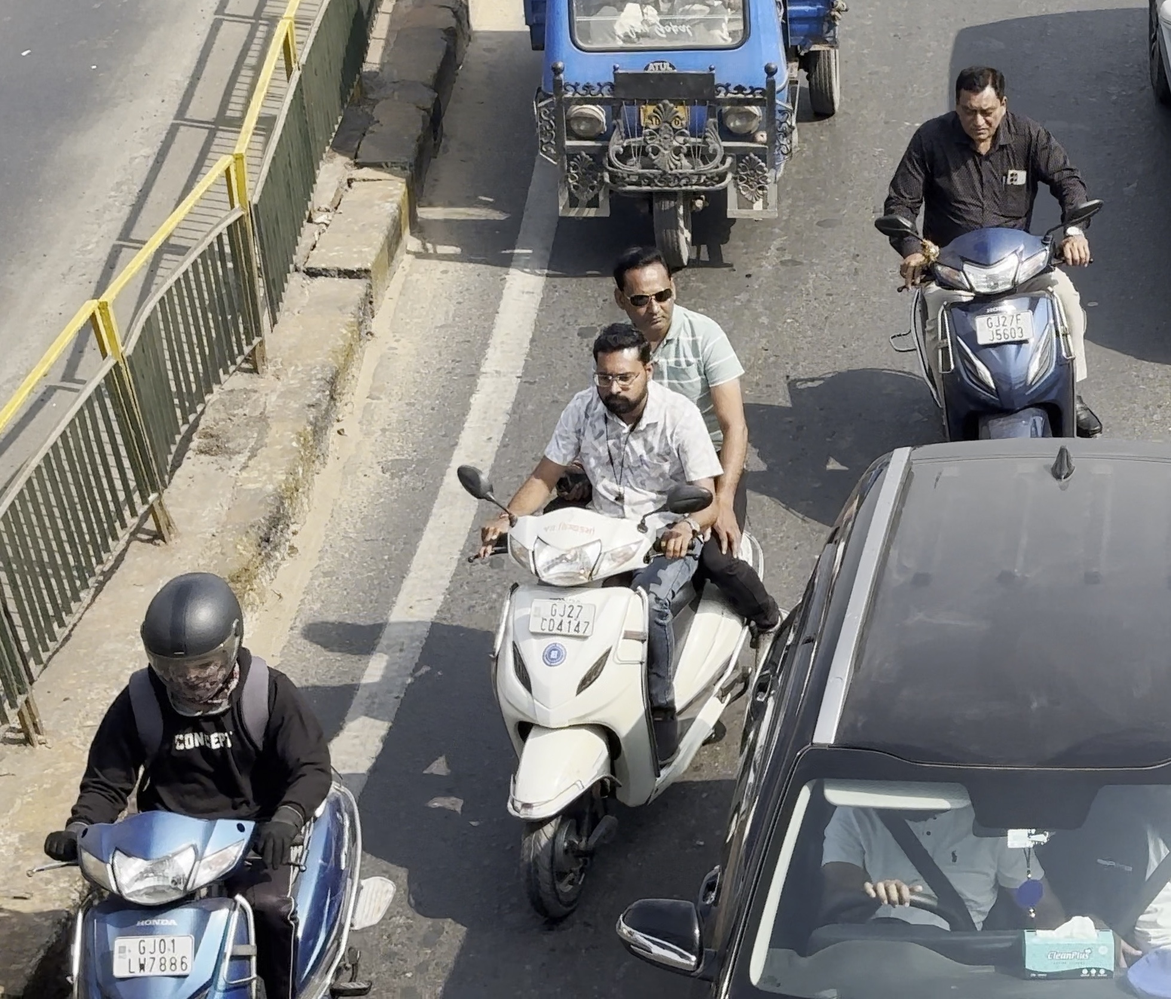BikeWithRider: (448, 234, 797, 936), (27, 557, 403, 999), (864, 57, 1115, 457)
Helmet: (126, 559, 261, 722)
NoHelmet: (601, 237, 686, 349), (580, 317, 662, 422), (937, 58, 1024, 149)
